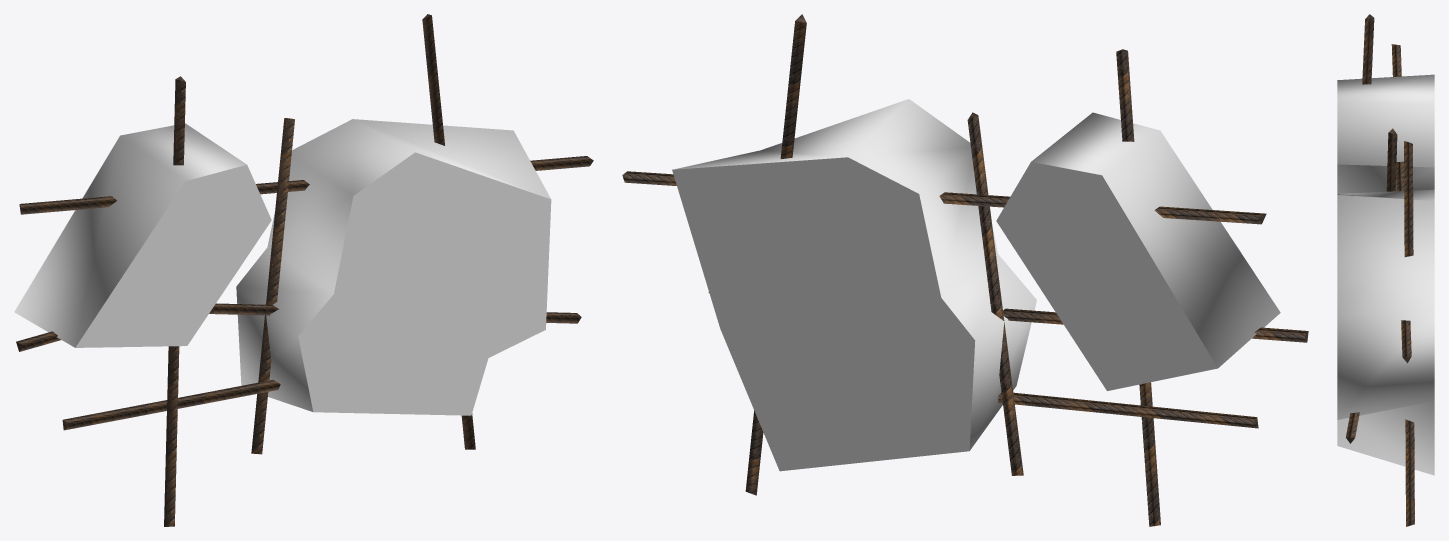
The model's file is Debris2_LOD2.fbx.
3 views of the same model, side by side, from view 1: azimuth 30°, elevation 25°; view 2: azimuth 150°, elevation 25°; view 3: azimuth 270°, elevation 25° (orthographic). The views are drawn at different scales.
Visible parts, largest first — view 1: polySurface1277; view 2: polySurface1277; view 3: polySurface1277.
Part boxes in pixels (x1=…): polySurface1277: x1=14, y1=14, x2=593, y2=526; polySurface1277: x1=622, y1=14, x2=1308, y2=526; polySurface1277: x1=1337, y1=14, x2=1434, y2=526.
Bounding box in the file's own units: 2.09 × 1.56 × 0.3589.
